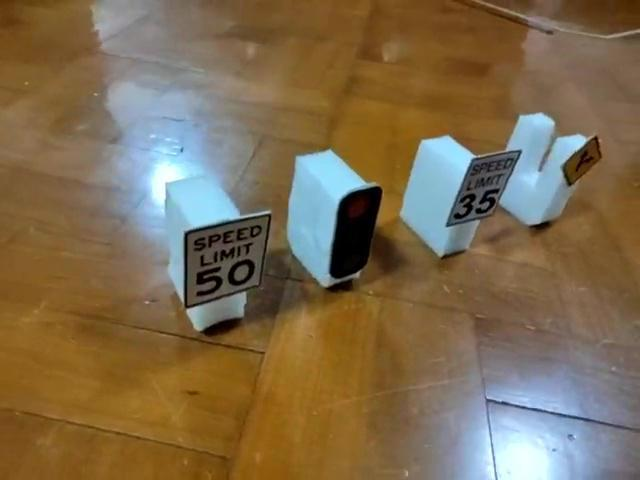Red Traffic Light: (329, 184, 382, 276)
Speed Limit 35: (447, 149, 523, 227)
Speed Limit 50: (182, 209, 272, 310)
Straight Or Right Sign: (561, 138, 607, 188)
